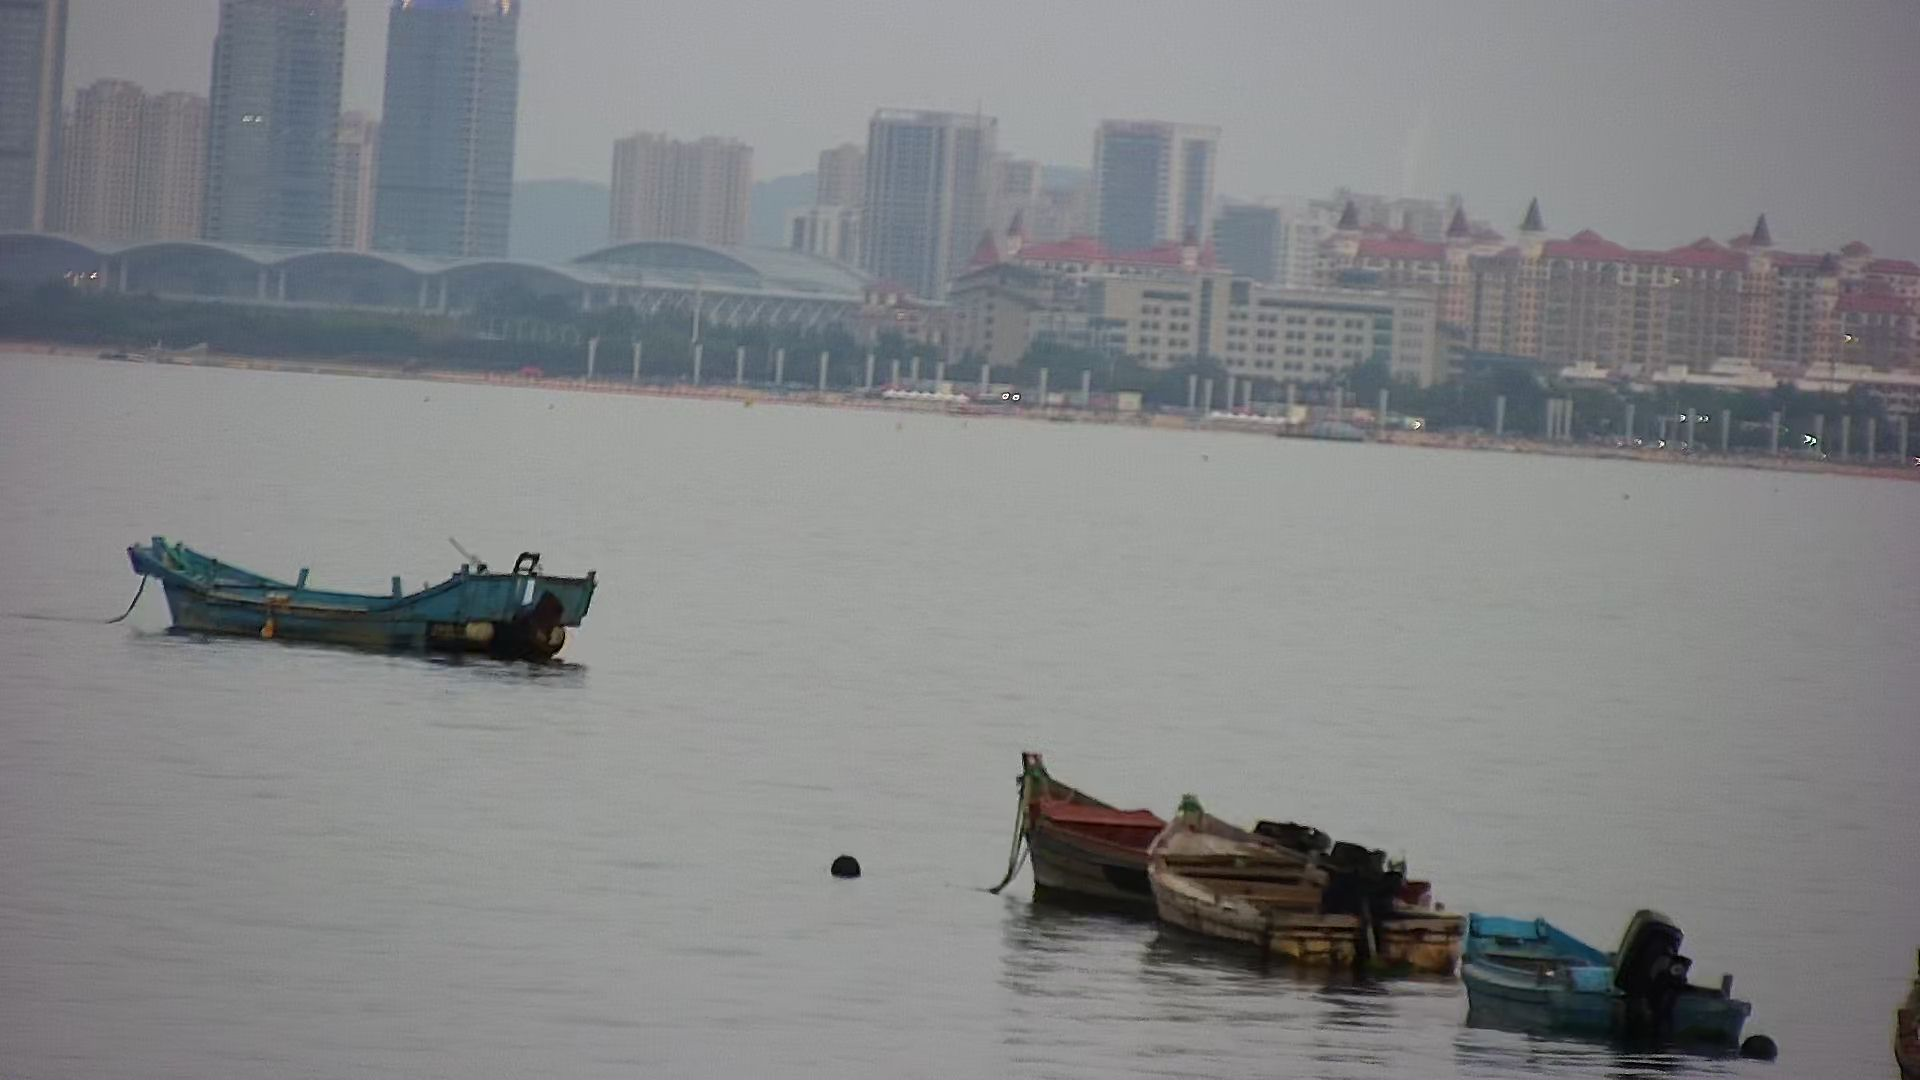ball: (832, 847, 869, 887)
boat: (119, 524, 597, 678), (1149, 793, 1469, 992), (1445, 902, 1793, 1064)
